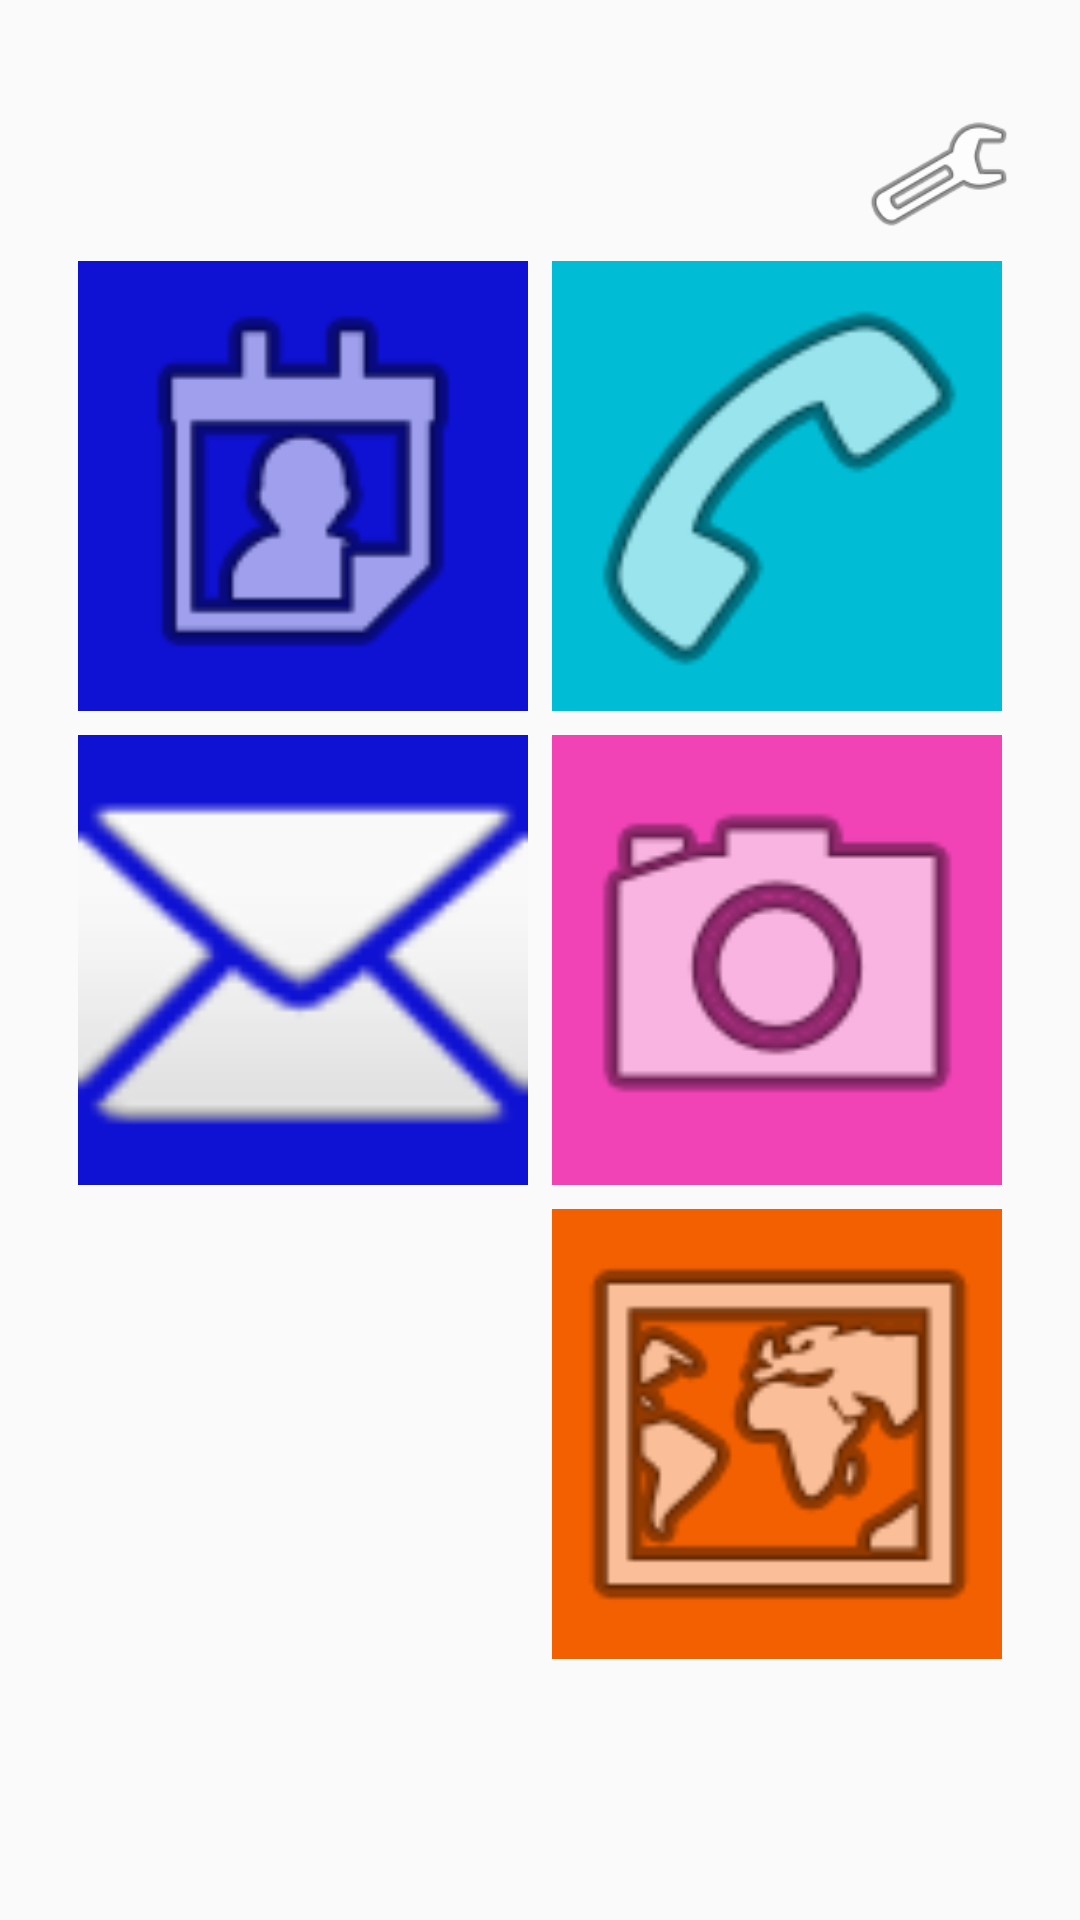

Icons on this 1080w x 1920h Android screen, each with its box as (x1, y1, x2, y2):
manage: (871, 122, 1007, 226)
